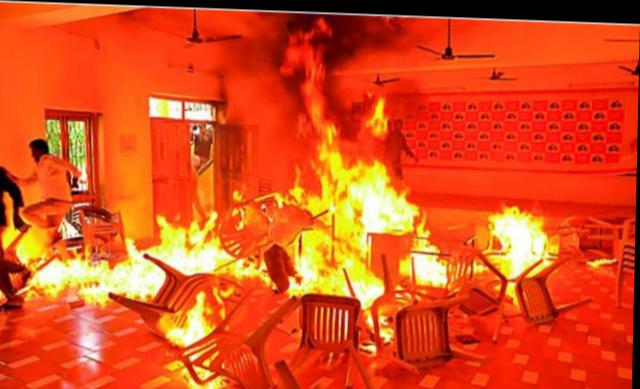fire: (3, 87, 575, 347)
